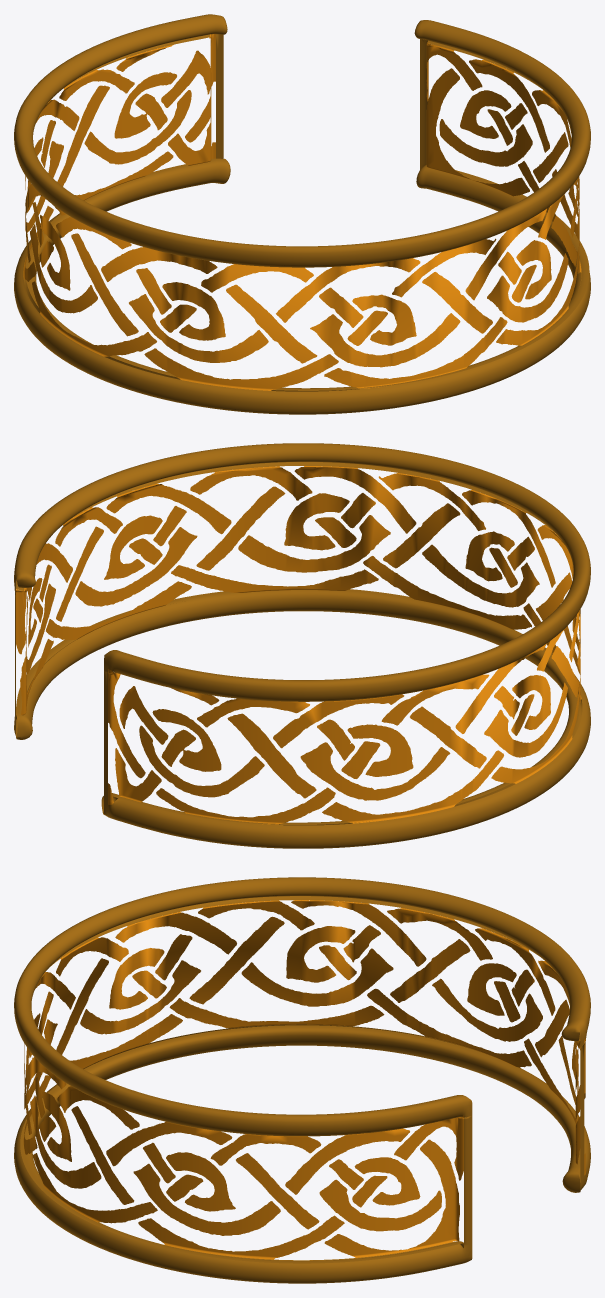
Rendered from bracelet.glb.
The picture shows the model from 3 angles, top to bottom: view 1: azimuth 30°, elevation 25°; view 2: azimuth 150°, elevation 25°; view 3: azimuth 270°, elevation 25°; orthographic projection.
Visible parts, largest first — view 1: Circle (×2); view 2: Circle (×2); view 3: Circle (×2).
Part boxes in pixels (bbox=[...]): Circle (×2): bbox=[14, 14, 590, 414]; Circle (×2): bbox=[14, 443, 590, 848]; Circle (×2): bbox=[14, 877, 590, 1283].
Size of the model in its own units: 1.98 by 0.6396 by 1.98.
Materials: 2 (1 with a texture image).
